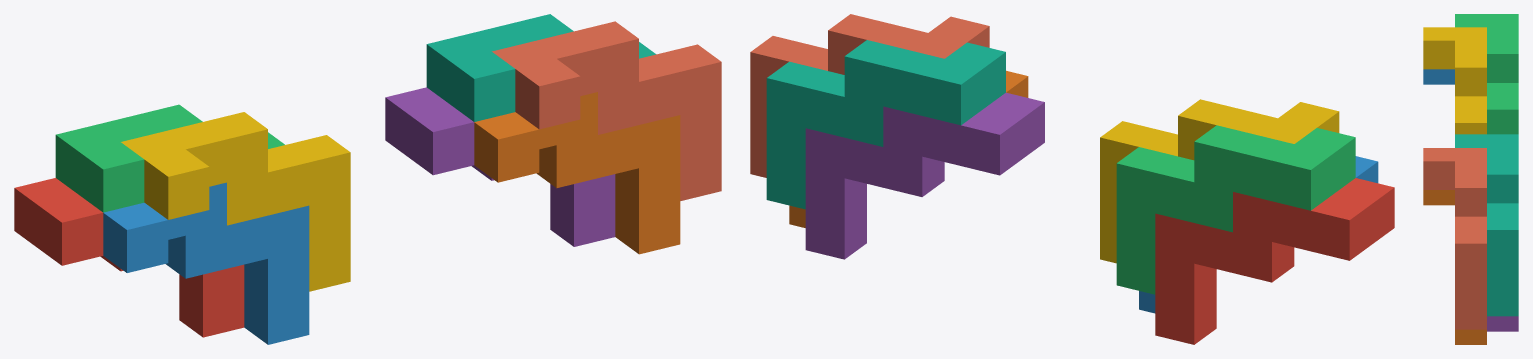
The model's file is tiling.obj.
3 renders of one model, left to right at view 1: azimuth 30°, elevation 25°; view 2: azimuth 150°, elevation 25°; view 3: azimuth 270°, elevation 25°, orthographic. The views are drawn at different scales.
Visible parts, largest first — view 1: copy_1_domain_4, copy_1_domain_8, copy_1_domain_2, copy_1_domain_6, copy_1_domain_1, copy_1_domain_5, copy_1_domain_3, copy_1_domain_7; view 2: copy_1_domain_7, copy_1_domain_3, copy_1_domain_5, copy_1_domain_1, copy_1_domain_4, copy_1_domain_8, copy_1_domain_2, copy_1_domain_6; view 3: copy_1_domain_8, copy_1_domain_7, copy_1_domain_4, copy_1_domain_3, copy_1_domain_6, copy_1_domain_2, copy_1_domain_5.
Part boxes in pixels (<box>): copy_1_domain_4: <box>121,112,350,291</box>; copy_1_domain_8: <box>492,21,721,200</box>; copy_1_domain_2: <box>103,182,309,344</box>; copy_1_domain_6: <box>474,92,680,254</box>; copy_1_domain_1: <box>14,178,244,337</box>; copy_1_domain_5: <box>385,87,615,246</box>; copy_1_domain_3: <box>55,104,284,212</box>; copy_1_domain_7: <box>426,14,656,121</box>; copy_1_domain_7: <box>766,40,1005,209</box>; copy_1_domain_3: <box>1116,125,1355,294</box>; copy_1_domain_5: <box>805,92,1044,259</box>; copy_1_domain_1: <box>1155,178,1394,344</box>; copy_1_domain_4: <box>1100,99,1339,263</box>; copy_1_domain_8: <box>750,14,989,177</box>; copy_1_domain_2: <box>1139,156,1378,313</box>; copy_1_domain_6: <box>789,70,1028,227</box>; copy_1_domain_8: <box>1423,148,1486,329</box>; copy_1_domain_7: <box>1455,134,1518,316</box>; copy_1_domain_4: <box>1423,27,1486,134</box>; copy_1_domain_3: <box>1455,14,1518,134</box>; copy_1_domain_6: <box>1423,190,1486,344</box>; copy_1_domain_2: <box>1423,69,1454,84</box>; copy_1_domain_5: <box>1487,316,1518,331</box>.
Size of the model in its own units: 16 by 5 by 3.
